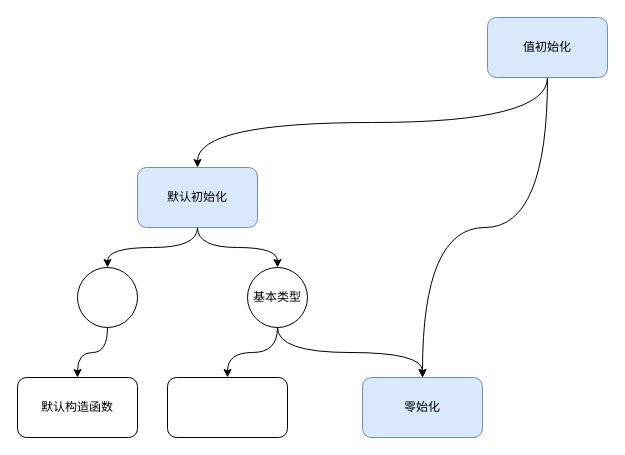
Some shapes in this 625 by 455 pixel diagram are drawn without their labels. The centre of each missing label's shape, as x and y in pixels:
"indeterminate" goes at (x=227, y=407).
"类类型" goes at (x=107, y=297).
